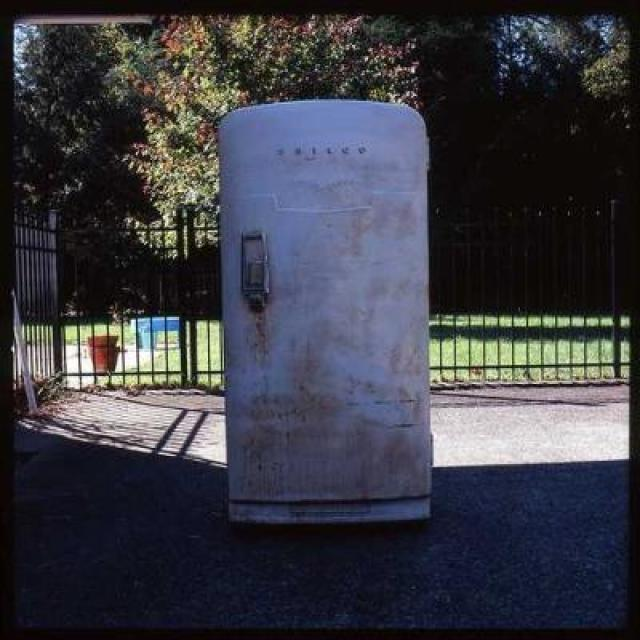refrigerator: (220, 100, 438, 519)
